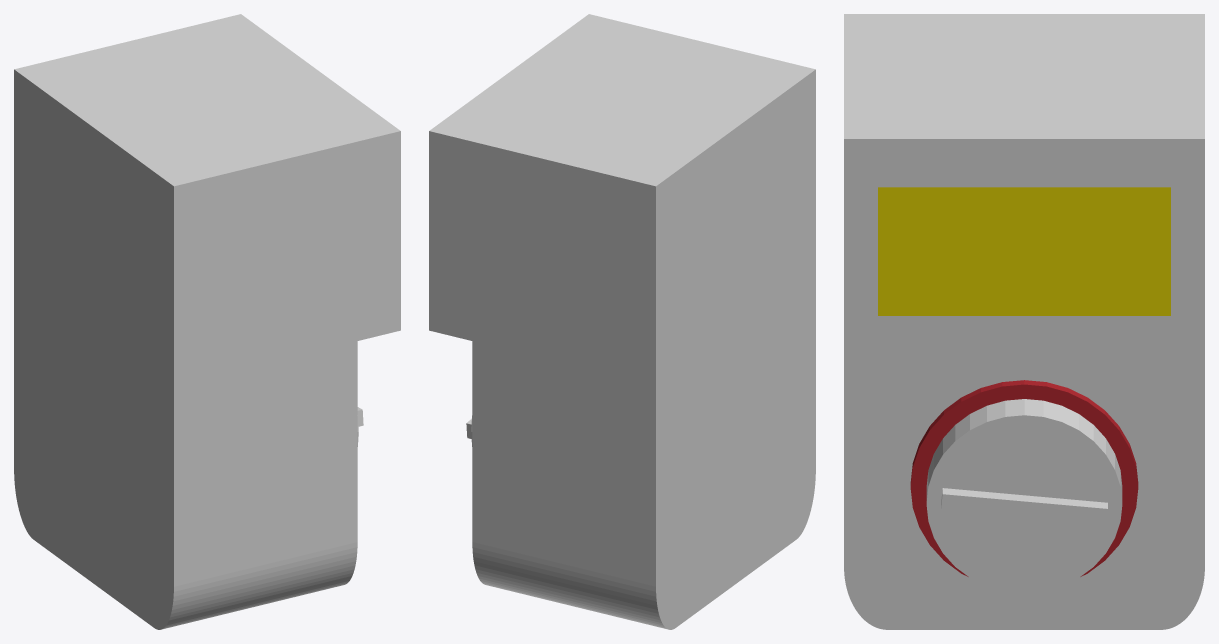
The model's file is fanswitch.fbx.
The picture shows the model from 3 angles, left to right: view 1: azimuth 30°, elevation 25°; view 2: azimuth 150°, elevation 25°; view 3: azimuth 270°, elevation 25°; orthographic projection. The views are drawn at different scales.
Parts seen in each view (by area): view 1: Cube; view 2: Cube; view 3: Cube, Cylinder.001, Cylinder.
Part boxes in pixels (bbox=[...]): Cube: bbox=[14, 14, 400, 629]; Cube: bbox=[429, 14, 815, 629]; Cube: bbox=[844, 14, 1204, 629]; Cylinder.001: bbox=[926, 399, 1122, 592]; Cylinder: bbox=[910, 380, 1138, 576].
Bounding box in the file's own units: 65.4 × 123 × 77.91.
